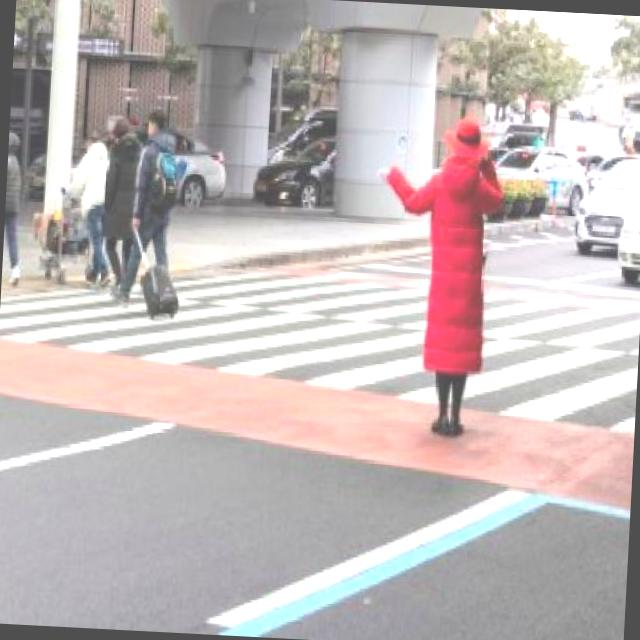Person: (364, 116, 504, 439), (118, 106, 182, 304), (62, 134, 114, 278), (102, 115, 140, 298)
